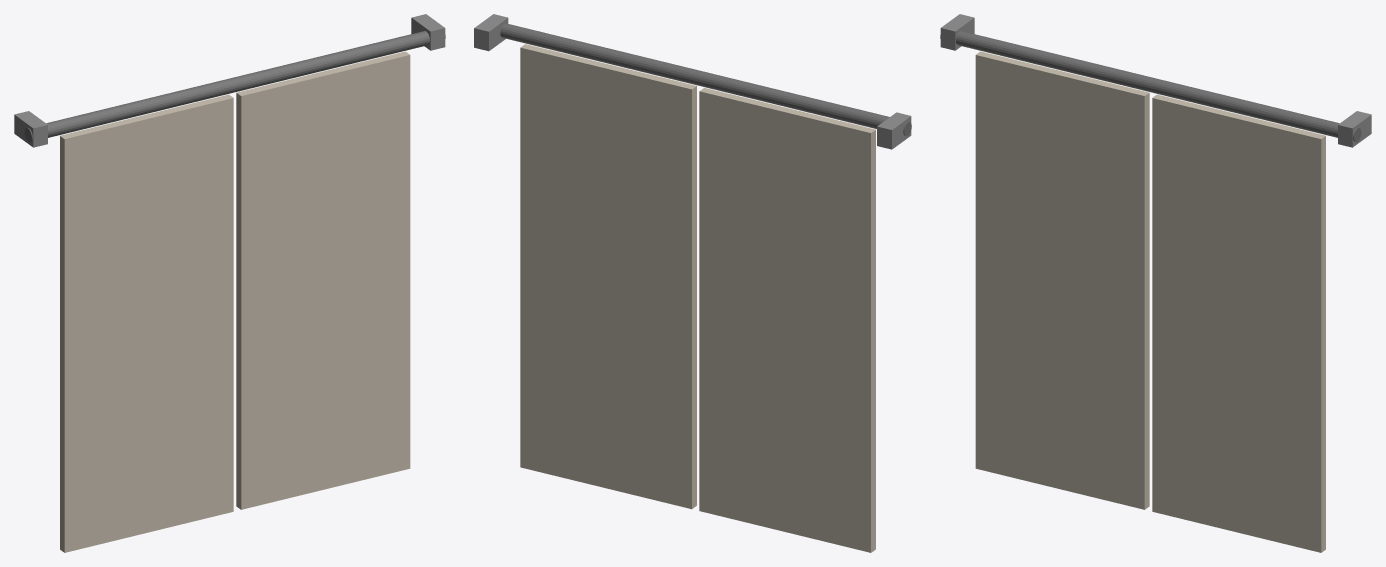
The model's file is curtain.glb.
3 renders of one model, left to right at view 1: azimuth 30°, elevation 25°; view 2: azimuth 150°, elevation 25°; view 3: azimuth 330°, elevation 25°, orthographic.
Parts seen in each view (by area): view 1: RightCurtain, LeftCurtain, Rod, LeftBracket, RightBracket; view 2: RightCurtain, LeftCurtain, Rod, LeftBracket, RightBracket; view 3: LeftCurtain, RightCurtain, Rod, RightBracket, LeftBracket.
Boxes of the visible parts, box(x1,y1,x2,y2) form: RightCurtain: box(236, 51, 410, 509); LeftCurtain: box(60, 94, 233, 552); Rod: box(24, 31, 445, 142); LeftBracket: box(14, 111, 47, 147); RightBracket: box(411, 14, 445, 50); RightCurtain: box(520, 44, 696, 509); LeftCurtain: box(699, 88, 875, 552); Rod: box(500, 23, 911, 136); LeftBracket: box(877, 112, 911, 149); RightBracket: box(474, 14, 508, 51); LeftCurtain: box(975, 51, 1149, 509); RightCurtain: box(1152, 94, 1325, 552); Rod: box(940, 31, 1361, 142); RightBracket: box(1338, 111, 1371, 147); LeftBracket: box(940, 14, 974, 50).
Size of the model in its own units: 2.25 by 2.25 by 0.18.
